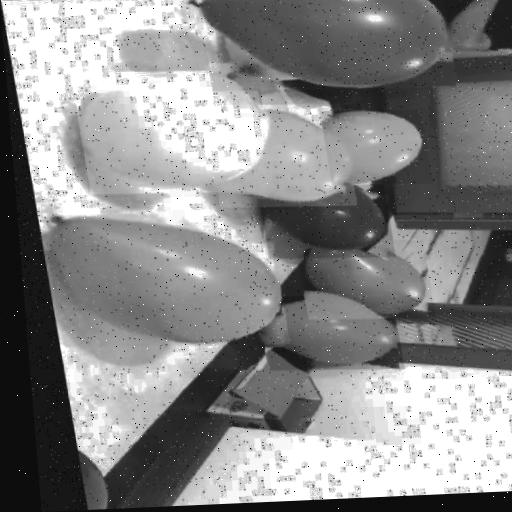balloon: (37, 205, 283, 353), (68, 64, 271, 199), (196, 0, 456, 96), (200, 99, 353, 211), (251, 172, 390, 261), (290, 234, 429, 322), (250, 290, 396, 373), (316, 104, 429, 186)
